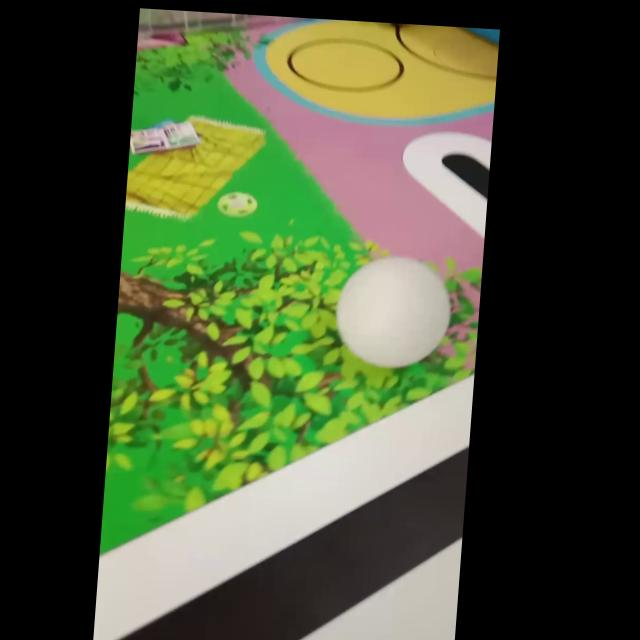white ball: (331, 251, 455, 372)
